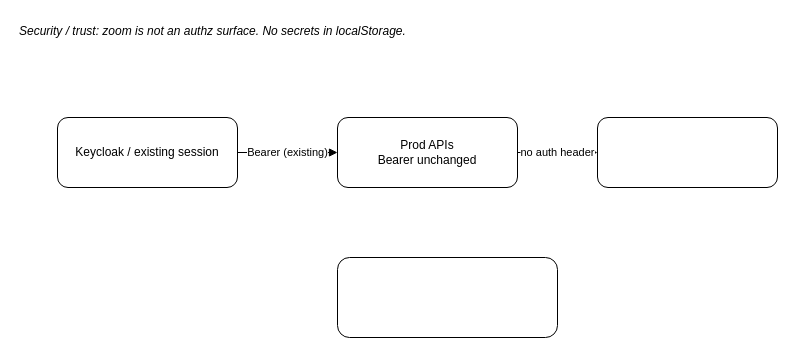
The diagram is 795 pixels wide and 355 high, and some of its shapes have lost their labels. The box of each missing label's shape, as (x1, y1, x2, y2) in pixels:
am_ui_zoom only no tokens: (596, 116, 778, 188)
Isolation: web vs mobile stub kIsWeb HUD/listeners only: (336, 256, 558, 338)
